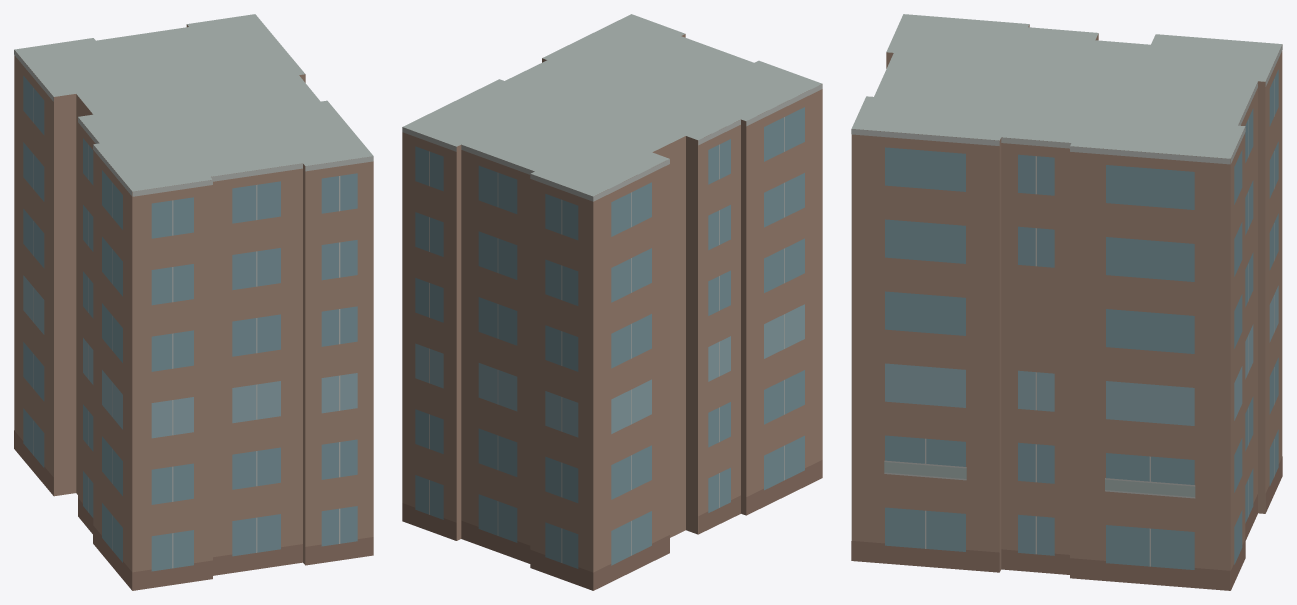
Rendered from survey-upis-32709486.glb.
3 renders of one model, left to right at view 1: azimuth 30°, elevation 25°; view 2: azimuth 150°, elevation 25°; view 3: azimuth 270°, elevation 25°, orthographic. The views are drawn at different scales.
Visible parts, largest first — view 1: survey-upis-32709486.tmp; view 2: survey-upis-32709486.tmp; view 3: survey-upis-32709486.tmp.
Boxes of the visible parts, x1,y1,x2,y2 form: survey-upis-32709486.tmp: [14, 14, 373, 590]; survey-upis-32709486.tmp: [402, 14, 822, 590]; survey-upis-32709486.tmp: [851, 14, 1282, 590].
Bounding box in the file's own units: 13.38 × 18.6 × 16.83.
